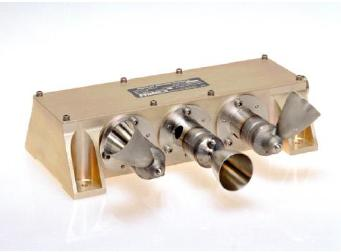thruster: (274, 87, 323, 145), (102, 119, 154, 168), (210, 150, 253, 192)
